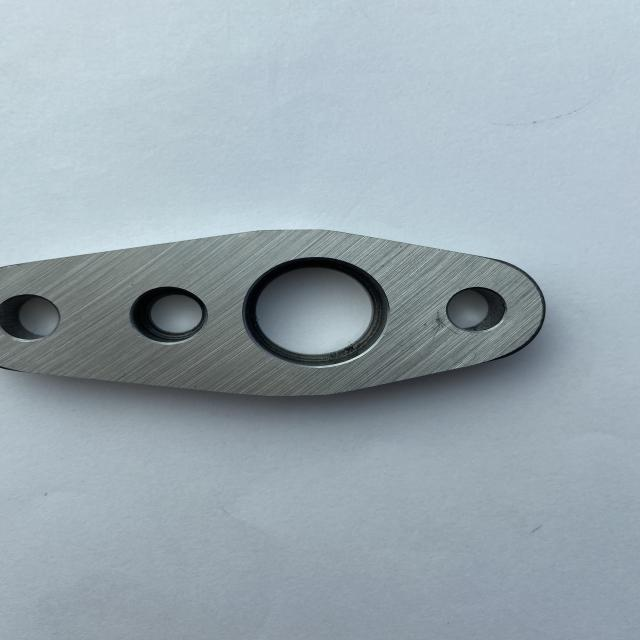lines: (427, 308, 444, 341), (424, 326, 456, 341)
